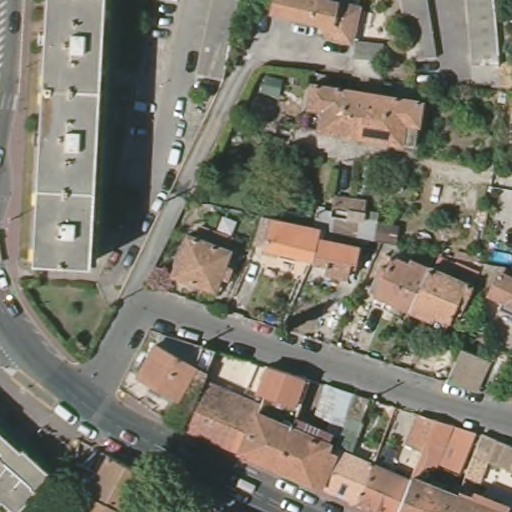pool: (481, 247, 512, 269)
